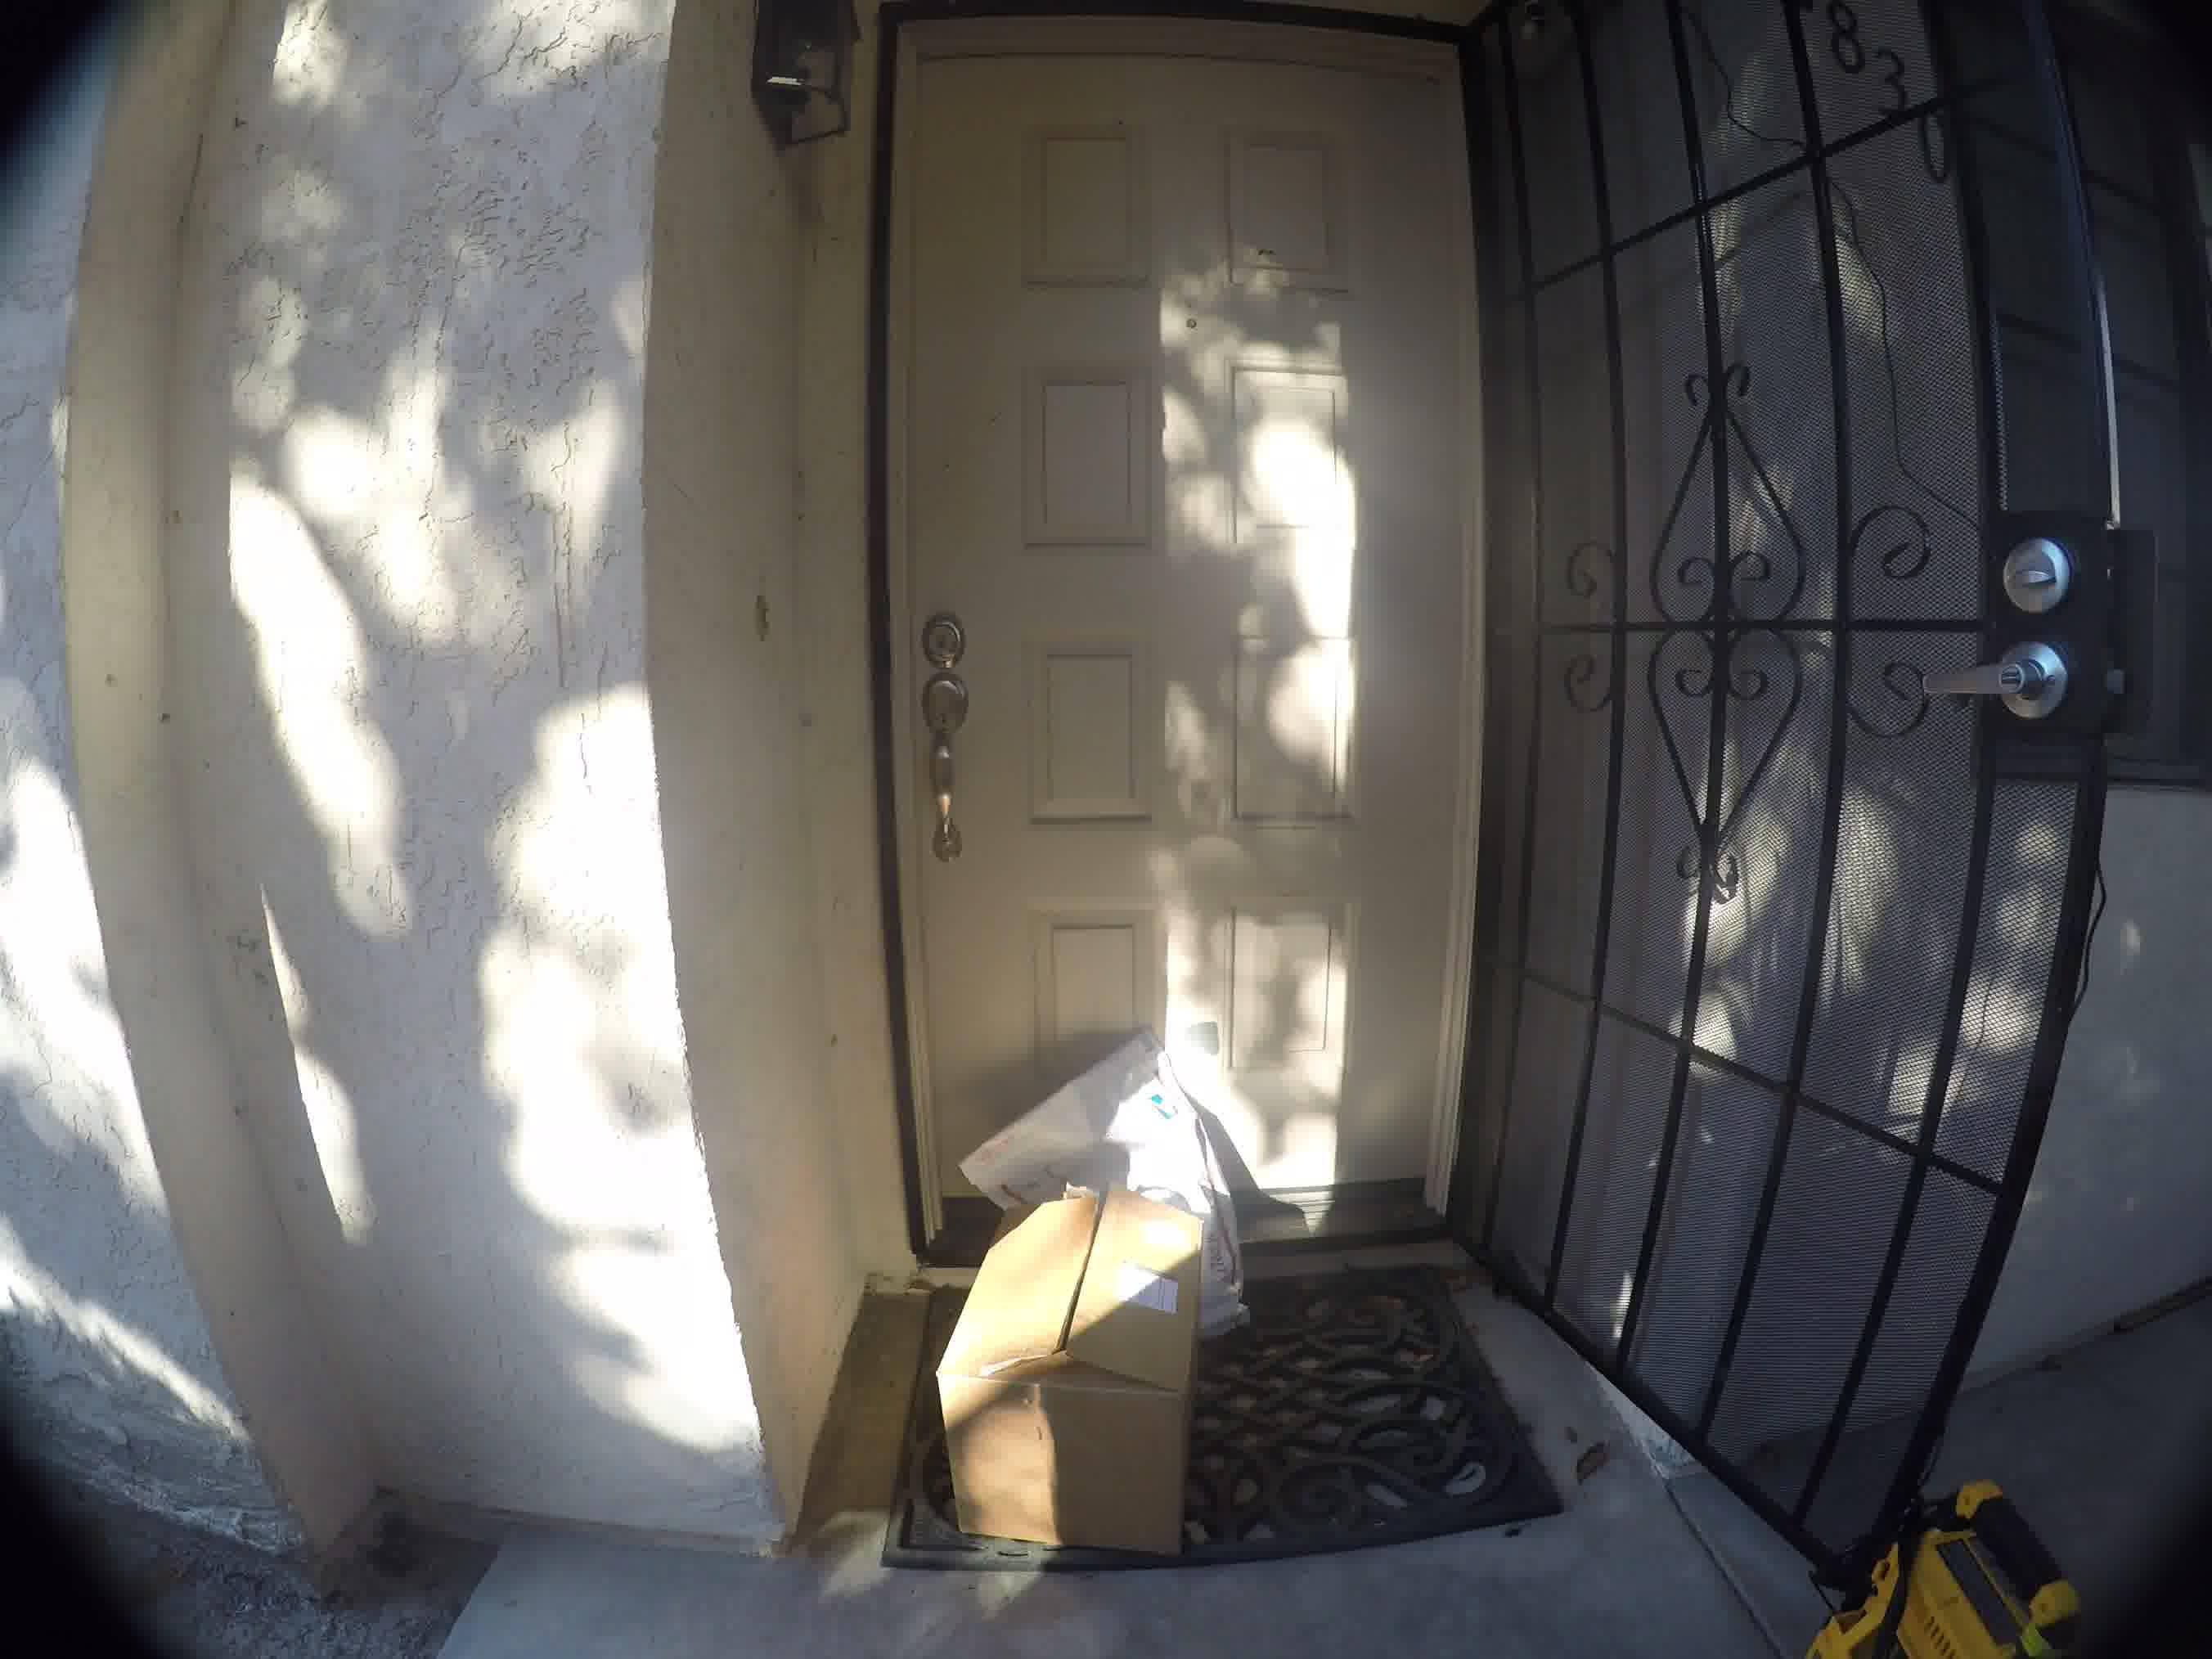box: (960, 1188, 1207, 1572)
plastic_bag: (953, 1012, 1294, 1188)
